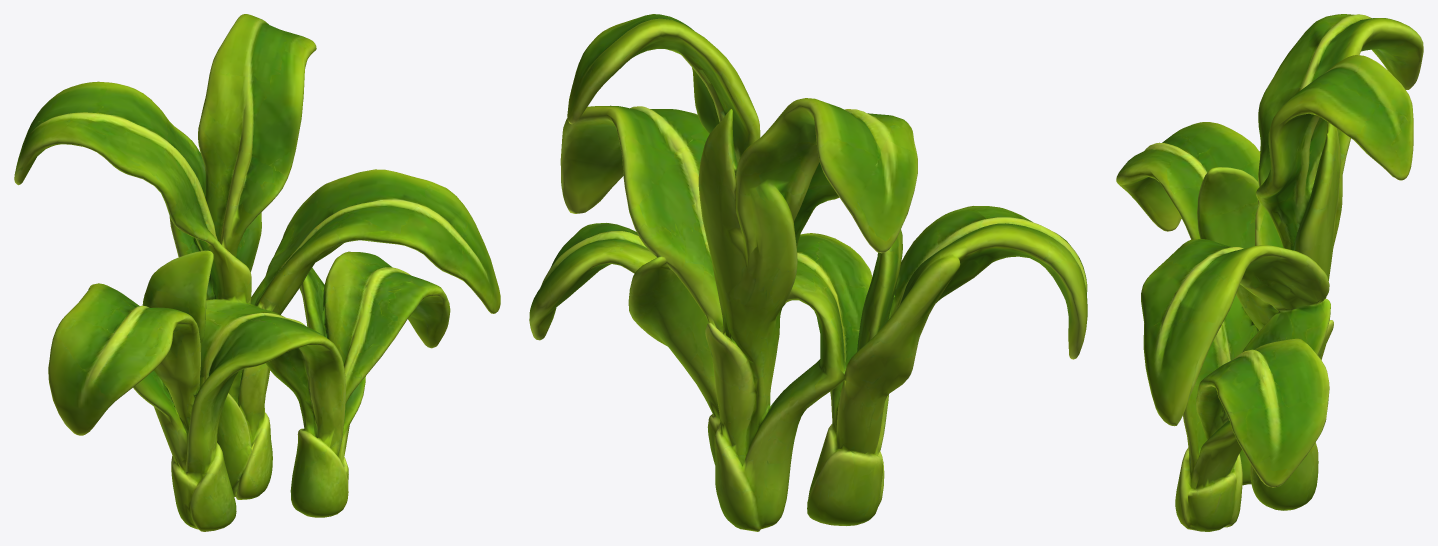
File: corn-sprout.glb
3 renders of one model, left to right at view 1: azimuth 30°, elevation 25°; view 2: azimuth 150°, elevation 25°; view 3: azimuth 270°, elevation 25°, orthographic. The views are drawn at different scales.
Bounding box in the file's own units: 1.9 × 1.8 × 1.08.
Materials: 1 (1 with a texture image).
